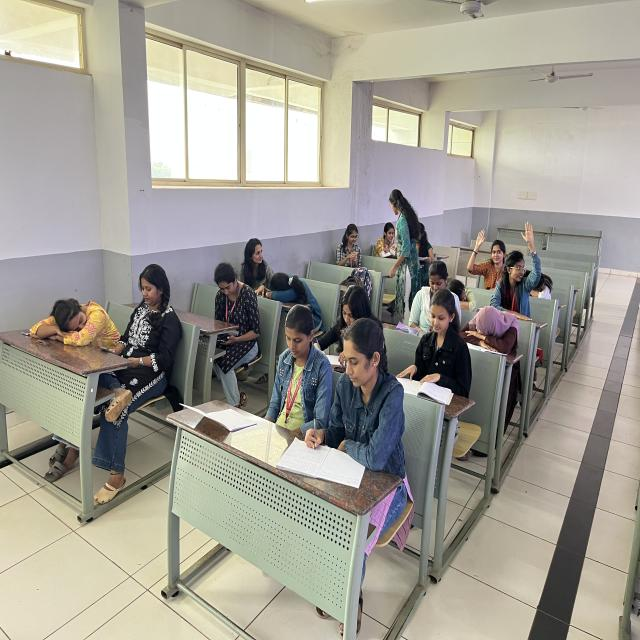Hand Rising: (506, 219, 548, 328), (469, 204, 510, 294)
Reading: (400, 277, 463, 438)
Sleeping: (11, 242, 124, 386), (458, 276, 532, 373), (256, 245, 331, 336), (524, 246, 571, 332)
Using Phone: (98, 251, 183, 414), (185, 258, 274, 382), (262, 299, 328, 411)
Writing: (298, 296, 393, 494), (305, 274, 374, 374)
